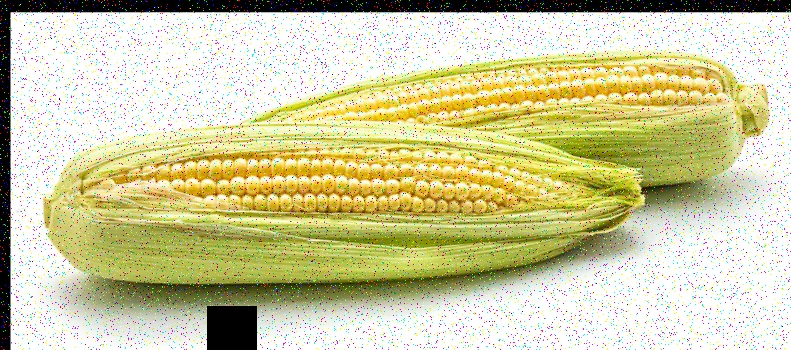corn: (36, 123, 647, 280), (222, 50, 768, 186)
